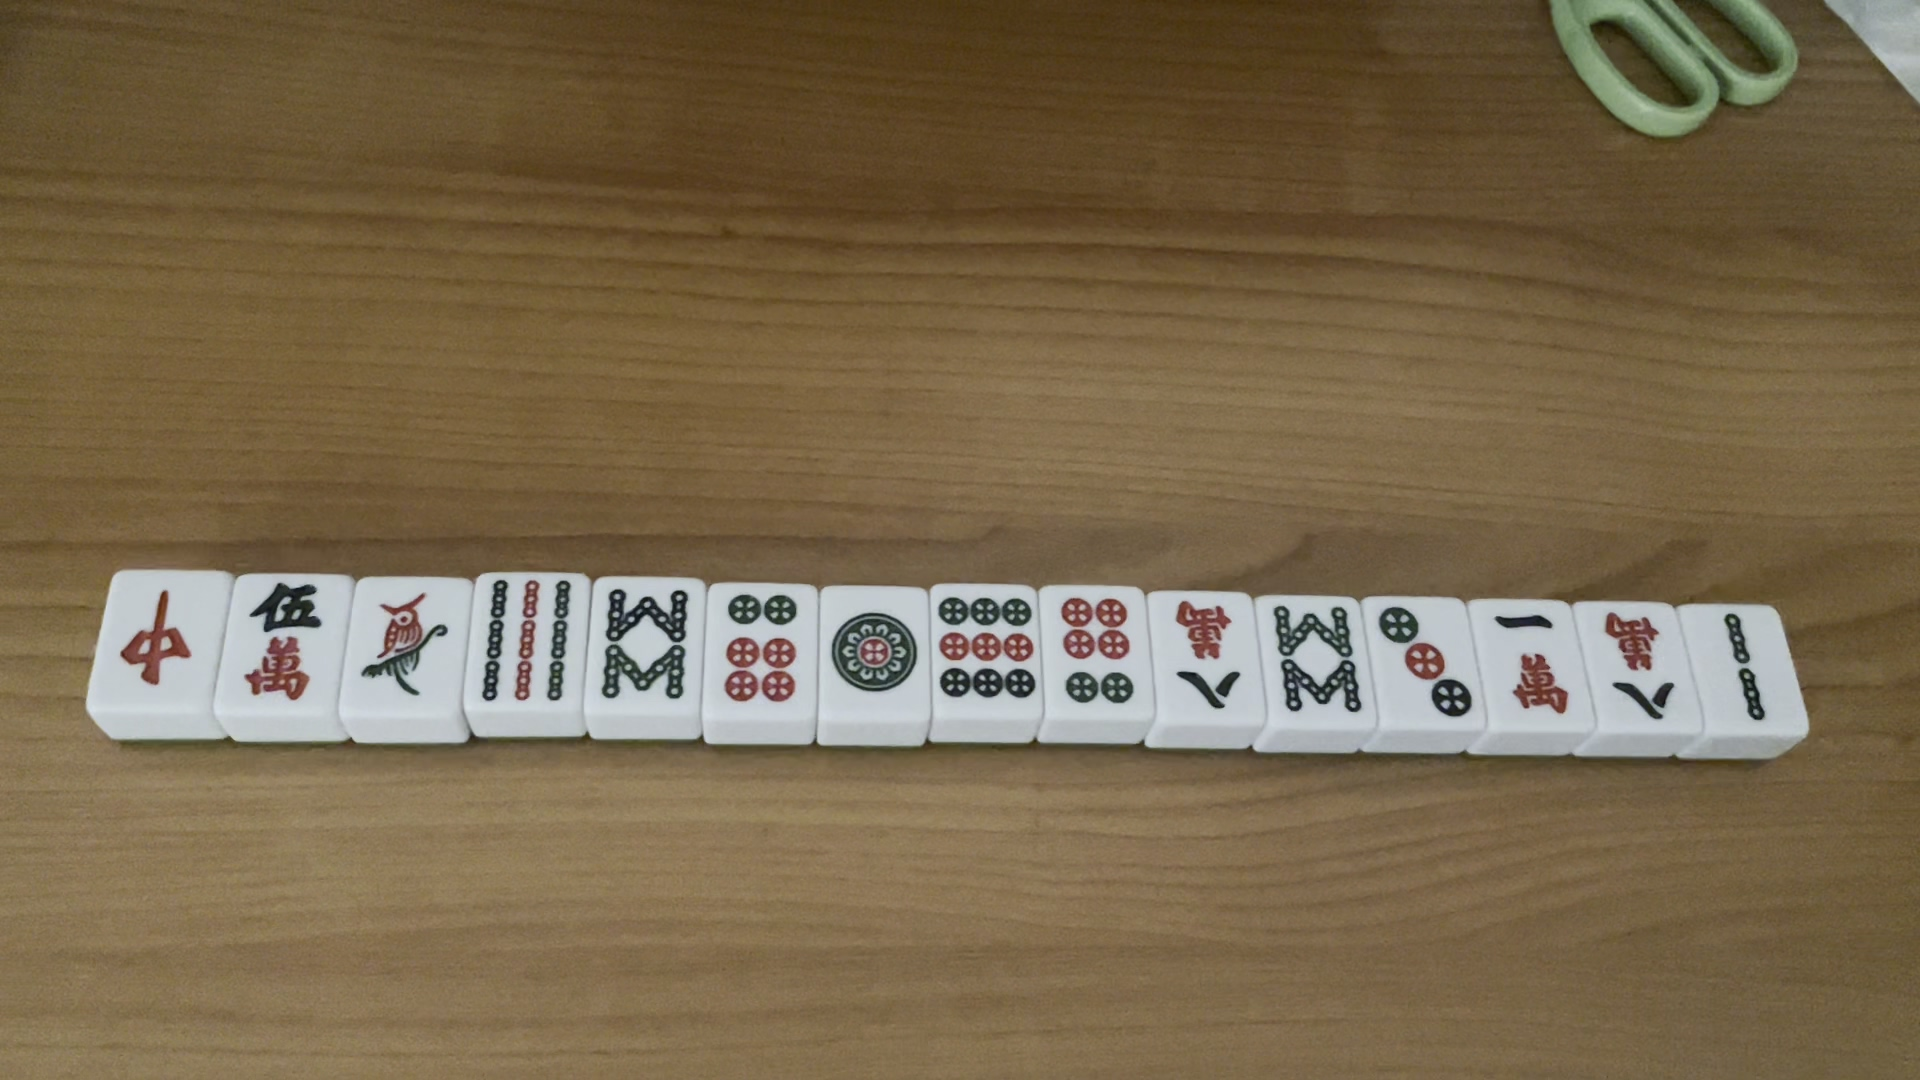b-1: (349, 585, 458, 696)
b-2: (1702, 608, 1774, 724)
b-8: (593, 579, 695, 699), (1262, 597, 1364, 717)
b-9: (473, 570, 578, 702)
c-1: (1493, 607, 1578, 731)
c-5: (225, 582, 328, 702)
c-8: (1164, 593, 1251, 709), (1600, 609, 1683, 731)
d-1: (833, 603, 920, 705)
d-3: (1373, 603, 1473, 723)
d-6: (713, 588, 804, 705), (1054, 592, 1138, 715)
d-9: (936, 588, 1042, 712)
honors-red: (105, 572, 191, 684)
